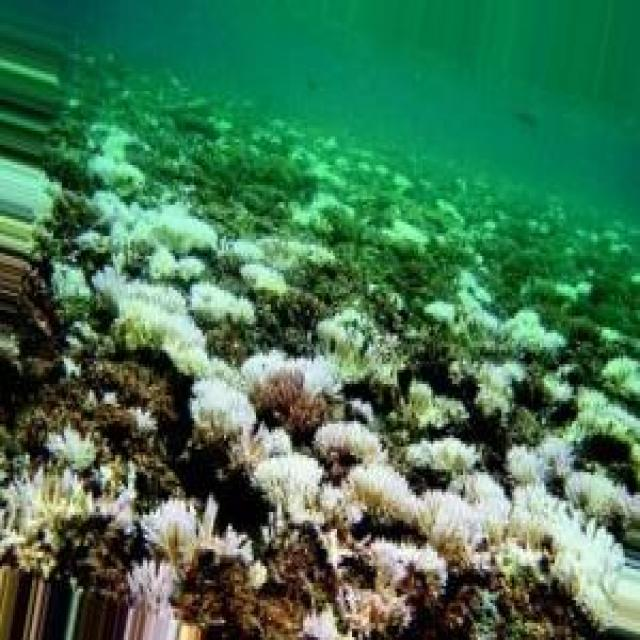bleached coral: (509, 485, 620, 624), (92, 267, 209, 376), (424, 270, 566, 358), (0, 467, 135, 556), (92, 190, 218, 282), (140, 495, 254, 564), (422, 472, 509, 561), (318, 307, 401, 386), (254, 452, 324, 522), (348, 465, 421, 528), (240, 352, 341, 394), (220, 237, 336, 271), (569, 389, 640, 444), (370, 538, 446, 587), (88, 128, 145, 193), (190, 377, 254, 434), (508, 438, 571, 482), (475, 363, 524, 417), (314, 422, 381, 461), (190, 282, 251, 324), (406, 438, 478, 472), (49, 425, 96, 469), (240, 263, 289, 296), (52, 264, 91, 301), (546, 373, 574, 404), (211, 270, 221, 279)
